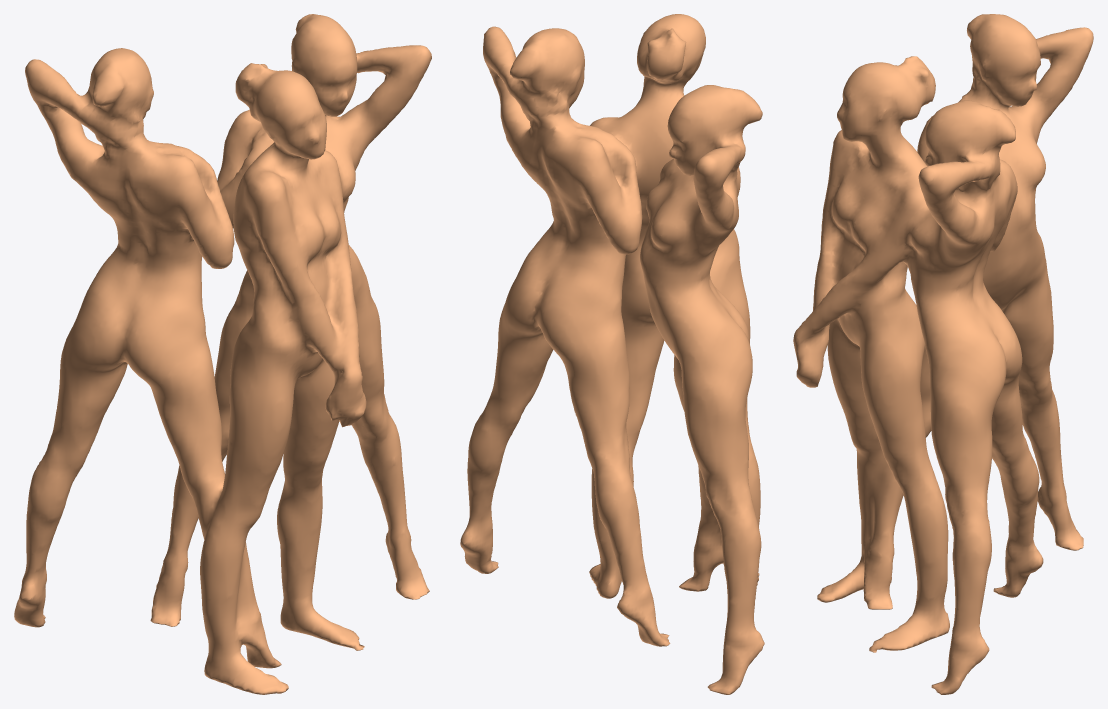
The model's file is body.glb.
3 renders of one model, left to right at view 1: azimuth 30°, elevation 25°; view 2: azimuth 150°, elevation 25°; view 3: azimuth 270°, elevation 25°, orthographic. The views are drawn at different scales.
Parts seen in each view (by area): view 1: body; view 2: body; view 3: body.
Part boxes in pixels (left/top/right/bottom): body: left=14, top=14, right=431, bottom=694; body: left=460, top=14, right=764, bottom=694; body: left=793, top=14, right=1093, bottom=694.
Bounding box in the file's own units: 7.44 × 11.81 × 5.79.
